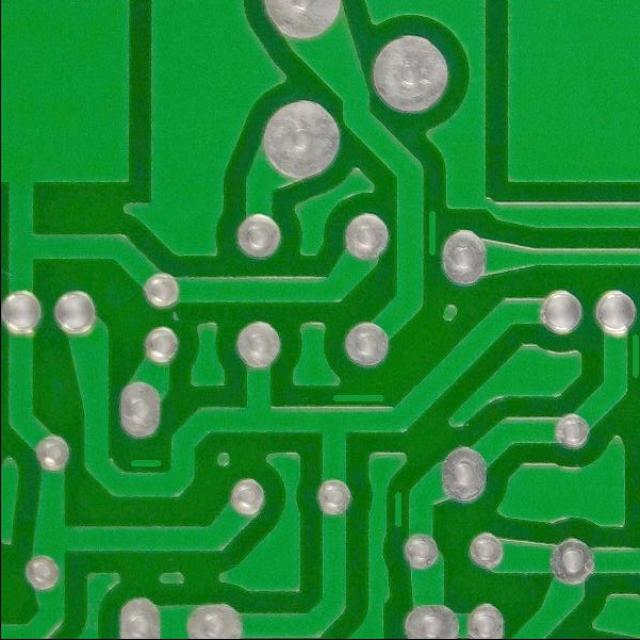spurious_copper: (328, 383, 389, 410), (419, 209, 444, 262), (125, 450, 168, 475), (387, 487, 410, 530)
